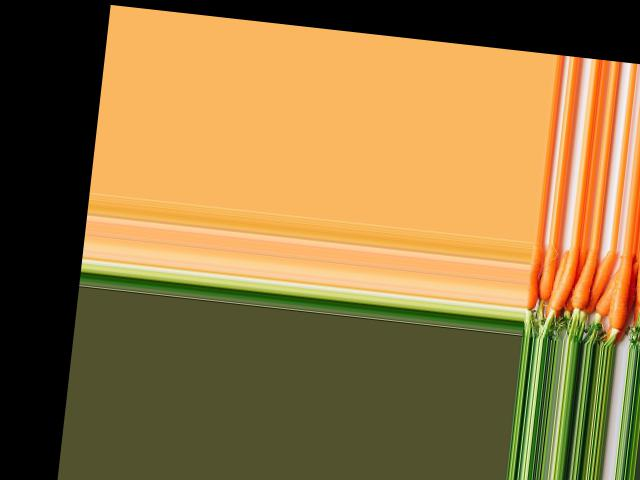carrot: (633, 252, 640, 315)
